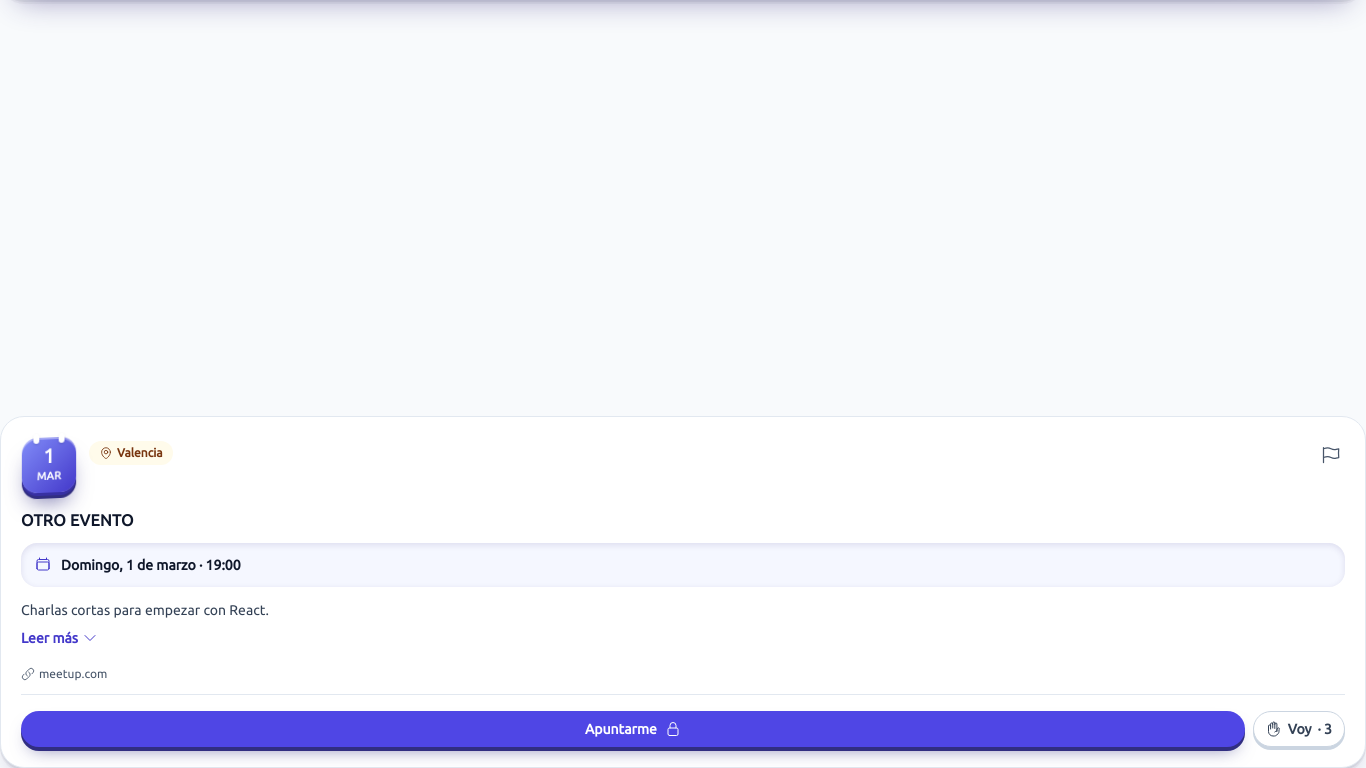
Scenario: EventCard › una descripción corta no lleva «Leer más»; una larga sí, y se despliega
(page scrolled)
Click the button named "Leer más la descripción de «Otro evento»" at (60, 638), box [21,622,98,654]
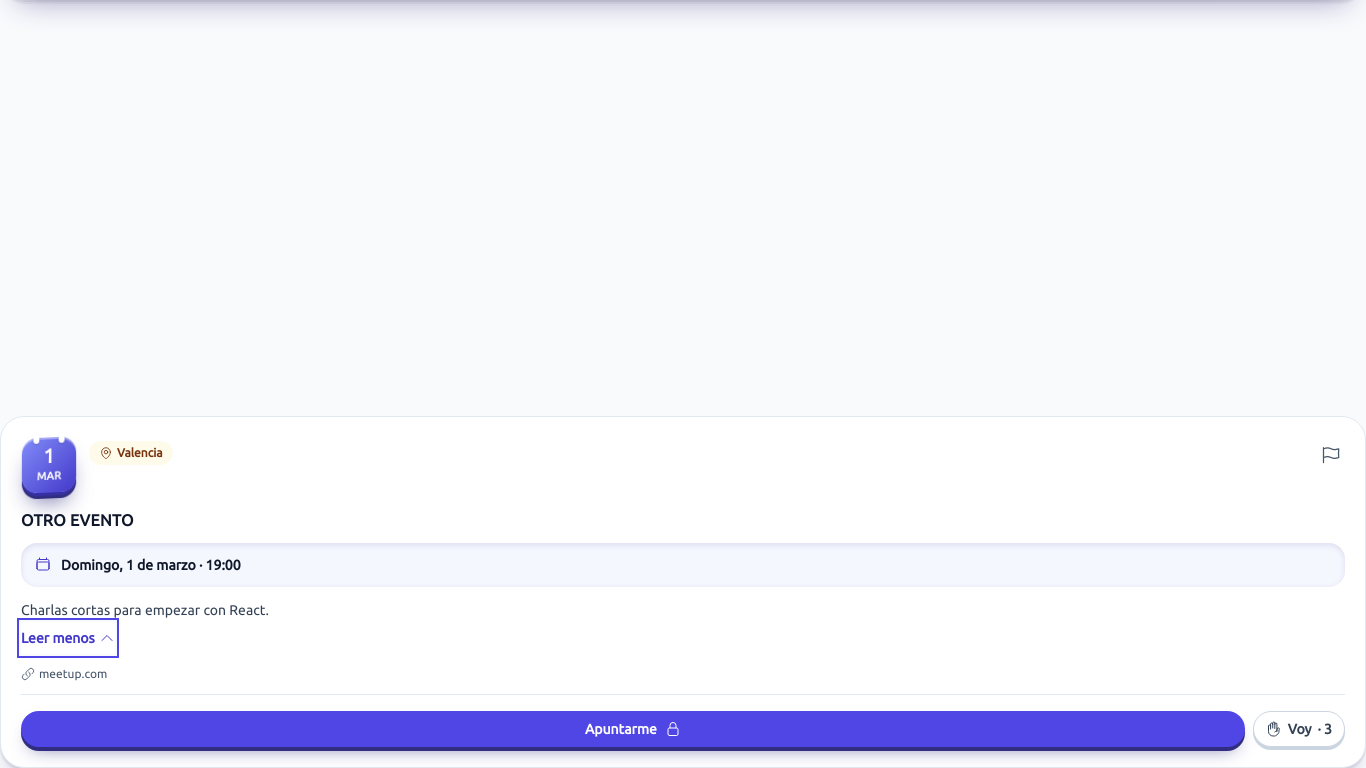
Expected: the button "Leer menos" is expanded, [21,622,115,654]
